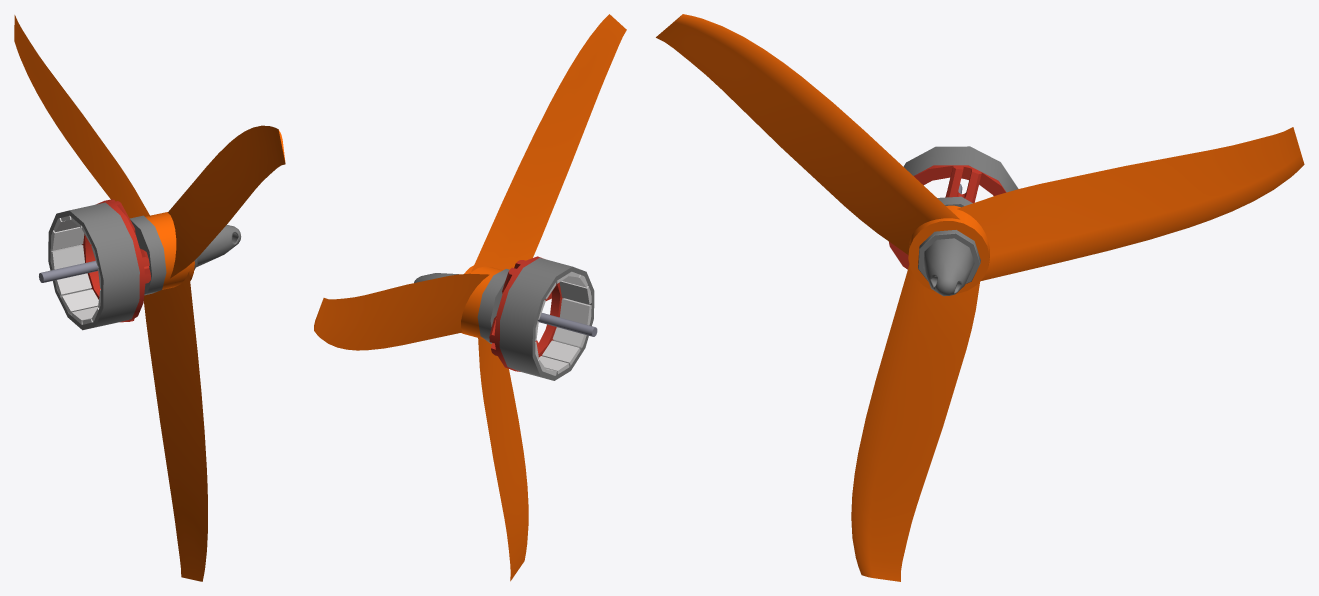
File: MiniHawkPropA.obj
The picture shows the model from 3 angles, left to right: view 1: azimuth 30°, elevation 25°; view 2: azimuth 150°, elevation 25°; view 3: azimuth 270°, elevation 25°; orthographic projection. The views are drawn at different scales.
Parts seen in each view (by area): view 1: Solid1, Solid1:1; view 2: Solid1, Solid1:1; view 3: Solid1, Solid1:1.
Boxes of the visible parts, x1,y1,x2,y2 form: Solid1: (14, 15, 285, 581); Solid1:1: (39, 199, 241, 330); Solid1: (314, 14, 626, 581); Solid1:1: (414, 256, 597, 380); Solid1: (656, 14, 1304, 581); Solid1:1: (889, 146, 1018, 296).
Bounding box in the file's own units: 0.0417 × 0.1072 × 0.1114.
